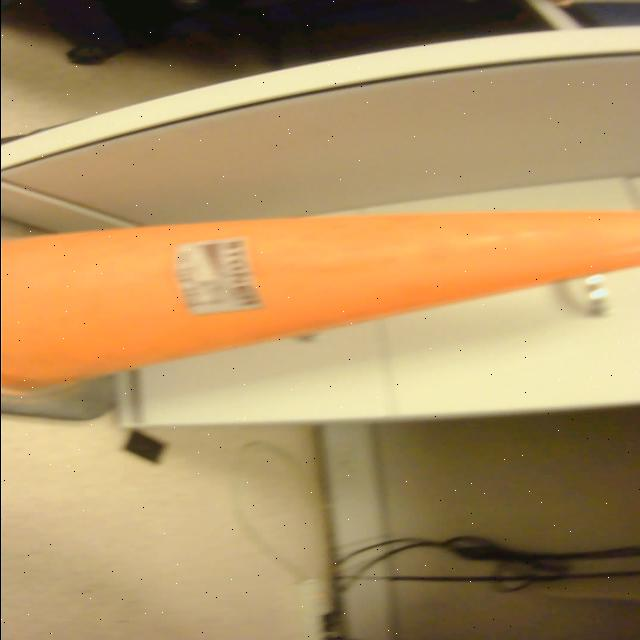traffic cone: (1, 190, 640, 439)
